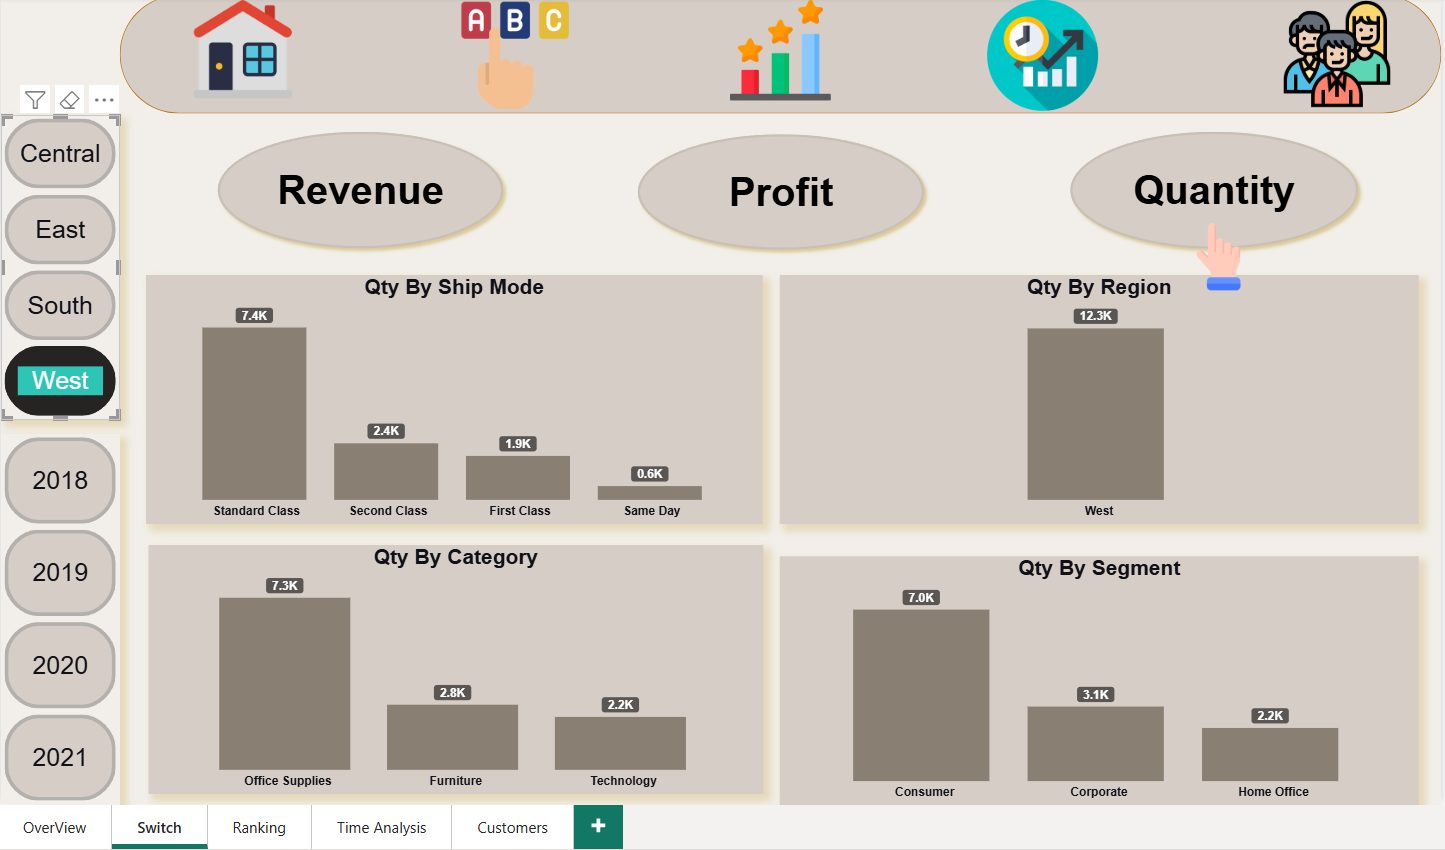

This screenshot's page, from the dashboard's own definition file:
{"tool":"powerbi","page":{"name":"Switch","canvas":[1920,1080],"ordinal":1},"visuals":[{"type":"shape","box":[158,0,1762,158],"z":0},{"type":"actionButton","title":"Button_qty","box":[1416,174,402,174],"z":2000},{"type":"actionButton","title":"Button_profit","box":[840,176,400,172],"z":3000},{"type":"actionButton","title":"Button_rev","box":[280.7,173.4,398.7,173.4],"z":4000},{"type":"clusteredColumnChart","title":"Qty By Ship Mode","fields":{"Category":["Dim_Order.Ship Mode"],"Y":["Dax.Total_Quantity"]},"box":[194,374,822,332],"z":9000},{"type":"clusteredColumnChart","title":"Qty By Region","fields":{"Category":["Dim_Customer.Region"],"Y":["Dax.Total_Quantity"]},"box":[1038,374,852,332],"z":11000},{"type":"clusteredColumnChart","title":"Qty By Category","fields":{"Category":["Dim_Product.Category"],"Y":["Dax.Total_Quantity"]},"box":[196,734,820,332],"z":13000},{"type":"clusteredColumnChart","title":"Qty By Segment","fields":{"Category":["Dim_Order.Segment"],"Y":["Dax.Total_Quantity"]},"box":[1038,748,852,332],"z":15000},{"type":"image","title":"Image_qty","box":[1564,246,120,204],"z":17000},{"type":"image","box":[230.7,0,184.2,144.8],"z":19000},{"type":"image","box":[606,2,158,158],"z":20000},{"type":"image","box":[1704,0,156,158],"z":21000},{"type":"image","box":[960,2,158,144],"z":22000},{"type":"image","box":[1310,2,158,158],"z":23000},{"type":"advancedSlicerVisual","fields":{"Values":["Dim_Customer.Region"]},"box":[0,160,158.3,406.7],"z":24000},{"type":"advancedSlicerVisual","fields":{"Values":["Calendar_Table.Year"]},"box":[0,585.7,158.6,494.3],"z":25000}]}

Visuals, with their boxes on the page's 1920x1080 design canvas (x1, y1, x2, y2). These are canvas units, not pixel positions in the 1445x850 screenshot, which may show the page scaled, cropped or inside an application window:
shape: 158 0 1920 158
"Button_qty" actionButton: 1416 174 1818 348
"Button_profit" actionButton: 840 176 1240 348
"Button_rev" actionButton: 281 173 679 347
"Qty By Ship Mode" clusteredColumnChart: 194 374 1016 706
"Qty By Region" clusteredColumnChart: 1038 374 1890 706
"Qty By Category" clusteredColumnChart: 196 734 1016 1066
"Qty By Segment" clusteredColumnChart: 1038 748 1890 1080
"Image_qty" image: 1564 246 1684 450
image: 231 0 415 145
image: 606 2 764 160
image: 1704 0 1860 158
image: 960 2 1118 146
image: 1310 2 1468 160
advancedSlicerVisual - Dim_Customer.Region: 0 160 158 567
advancedSlicerVisual - Calendar_Table.Year: 0 586 159 1080
